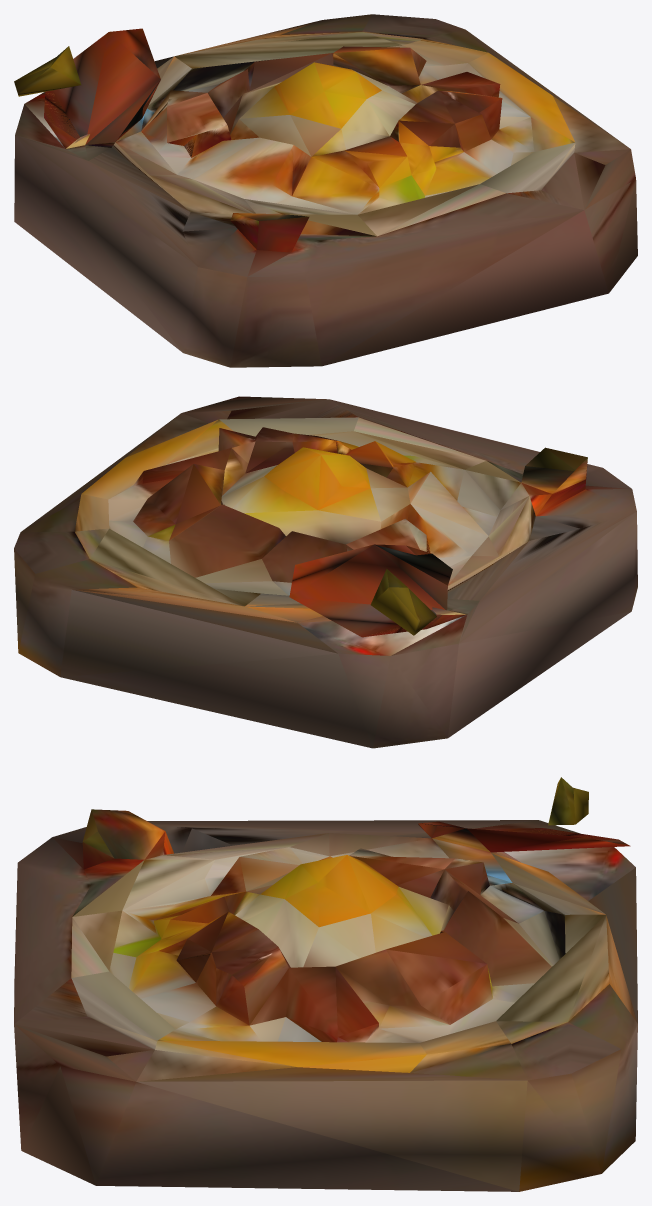
The model's file is 1煲仔饭.fbx.
3 renders of one model, top to bottom at view 1: azimuth 30°, elevation 25°; view 2: azimuth 150°, elevation 25°; view 3: azimuth 270°, elevation 25°, orthographic. The views are drawn at different scales.
Visible parts, largest first — view 1: tripo_node_0f5bbc4e; view 2: tripo_node_0f5bbc4e; view 3: tripo_node_0f5bbc4e.
Boxes of the visible parts, left/top/right/bottom form: tripo_node_0f5bbc4e: left=14, top=14, right=637, bottom=367; tripo_node_0f5bbc4e: left=14, top=396, right=637, bottom=748; tripo_node_0f5bbc4e: left=14, top=777, right=637, bottom=1191.
Size of the model in its own units: 99.61 by 35.92 by 99.75.
Materials: 1 (1 with a texture image).
